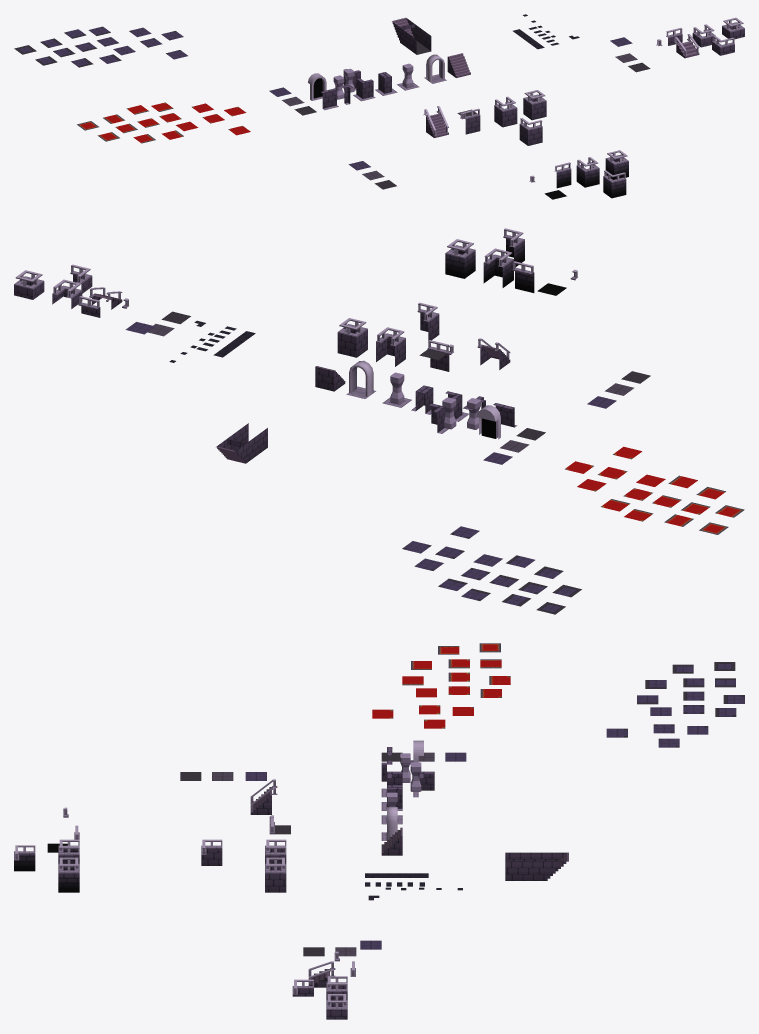
Rendered from Top-Down-Cartoon-Dungeon-Tileset.FBX.
3 views of the same model, one above another, from view 1: azimuth 30°, elevation 25°; view 2: azimuth 150°, elevation 25°; view 3: azimuth 270°, elevation 25° (orthographic). The views are drawn at different scales.
Parts seen in each view (by area): view 1: Stairs-Down, Drop-Pillar, Pit-Corner3, Drop-Corner3, Pit-Corner2, Drop-Corner2, Pit-Pillar, Drop-Stairs, Stairs-Up, Doorway, Wall-Doorway, Drop-Half-Pillar (+7 smaller); view 2: Stairs-Down, Pit-Pillar, Drop-Pillar, Pit-Corner3, Drop-Corner3, Corner2-2, Doorway, Drop-Half-Pillar, Wall-Doorway; view 3: Stairs-Down, Pit-Pillar, Drop-Pillar, Corner2-2.
Part boxes in pixels (<box>): Stairs-Down: <box>392,17,431,54</box>; Drop-Pillar: <box>523,90,546,120</box>; Pit-Corner3: <box>576,157,599,187</box>; Drop-Corner3: <box>494,96,517,127</box>; Pit-Corner2: <box>603,170,626,198</box>; Drop-Corner2: <box>519,118,542,145</box>; Pit-Pillar: <box>605,150,628,179</box>; Drop-Stairs: <box>423,106,448,137</box>; Stairs-Up: <box>447,53,470,77</box>; Doorway: <box>424,54,446,83</box>; Wall-Doorway: <box>308,73,326,100</box>; Drop-Half-Pillar: <box>722,17,744,40</box>; Stairs-Down: <box>216,423,267,463</box>; Pit-Pillar: <box>445,239,475,278</box>; Drop-Pillar: <box>337,318,367,357</box>; Pit-Corner3: <box>483,248,513,287</box>; Drop-Corner3: <box>376,327,405,366</box>; Corner2-2: <box>429,397,456,433</box>; Doorway: <box>346,360,375,398</box>; Drop-Half-Pillar: <box>14,270,44,299</box>; Wall-Doorway: <box>476,405,500,439</box>; Stairs-Down: <box>505,852,568,880</box>; Pit-Pillar: <box>58,857,79,892</box>; Drop-Pillar: <box>265,857,286,892</box>; Corner2-2: <box>410,762,434,797</box>.
Size of what is drawn, in the model's own units: 8193 by 500 by 6898.
Materials: 1 (1 with a texture image).
